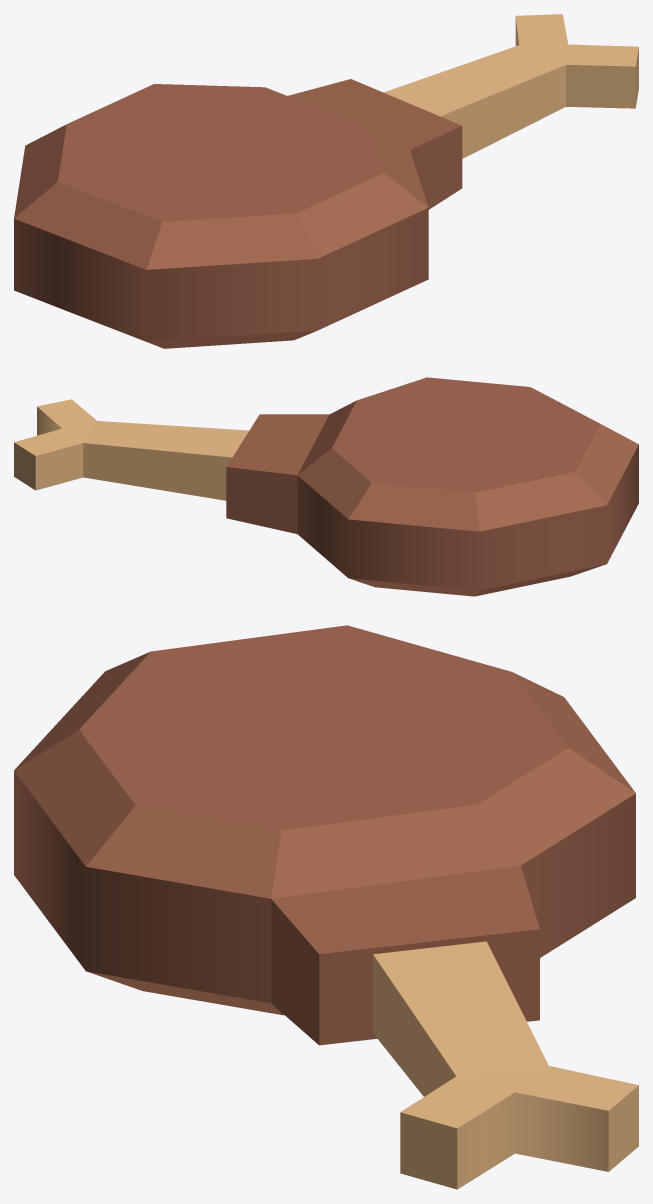
Rendered from Chicken.FBX.
3 renders of one model, top to bottom at view 1: azimuth 30°, elevation 25°; view 2: azimuth 150°, elevation 25°; view 3: azimuth 270°, elevation 25°, orthographic. The views are drawn at different scales.
Visible parts, largest first — view 1: Cylinder001; view 2: Cylinder001; view 3: Cylinder001.
Boxes of the visible parts, box(x1,y1,x2,y2) form: Cylinder001: box(14, 14, 638, 348); Cylinder001: box(14, 377, 638, 596); Cylinder001: box(14, 625, 638, 1189).
Bounding box in the file's own units: 10.67 × 6.01 × 2.
